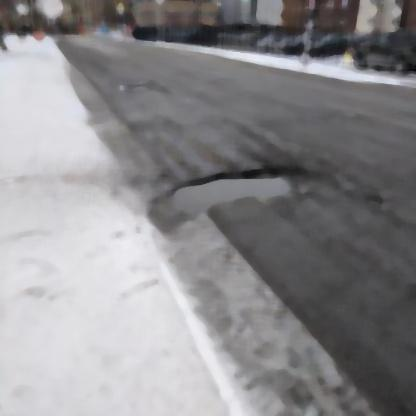Potholes: (176, 172, 296, 202)
